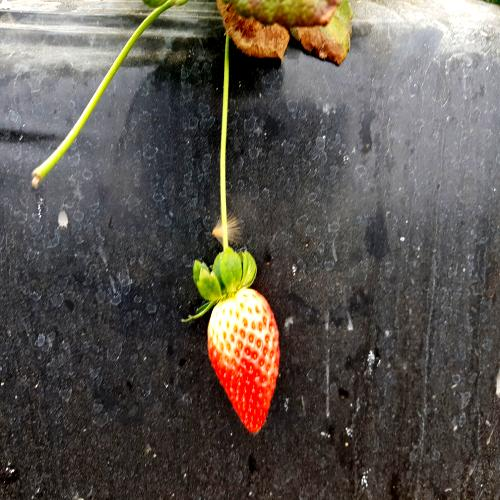partially-ripe: (205, 286, 290, 442)
